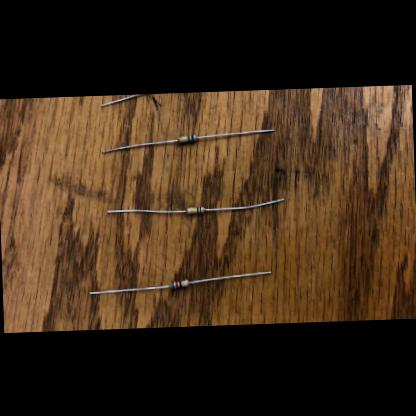resistor: (172, 278, 188, 288), (178, 134, 197, 142), (187, 206, 205, 214)
wire: (191, 269, 272, 283), (206, 196, 284, 210), (102, 138, 177, 152), (89, 283, 170, 293), (198, 127, 275, 137), (107, 206, 185, 214), (100, 93, 146, 105)
